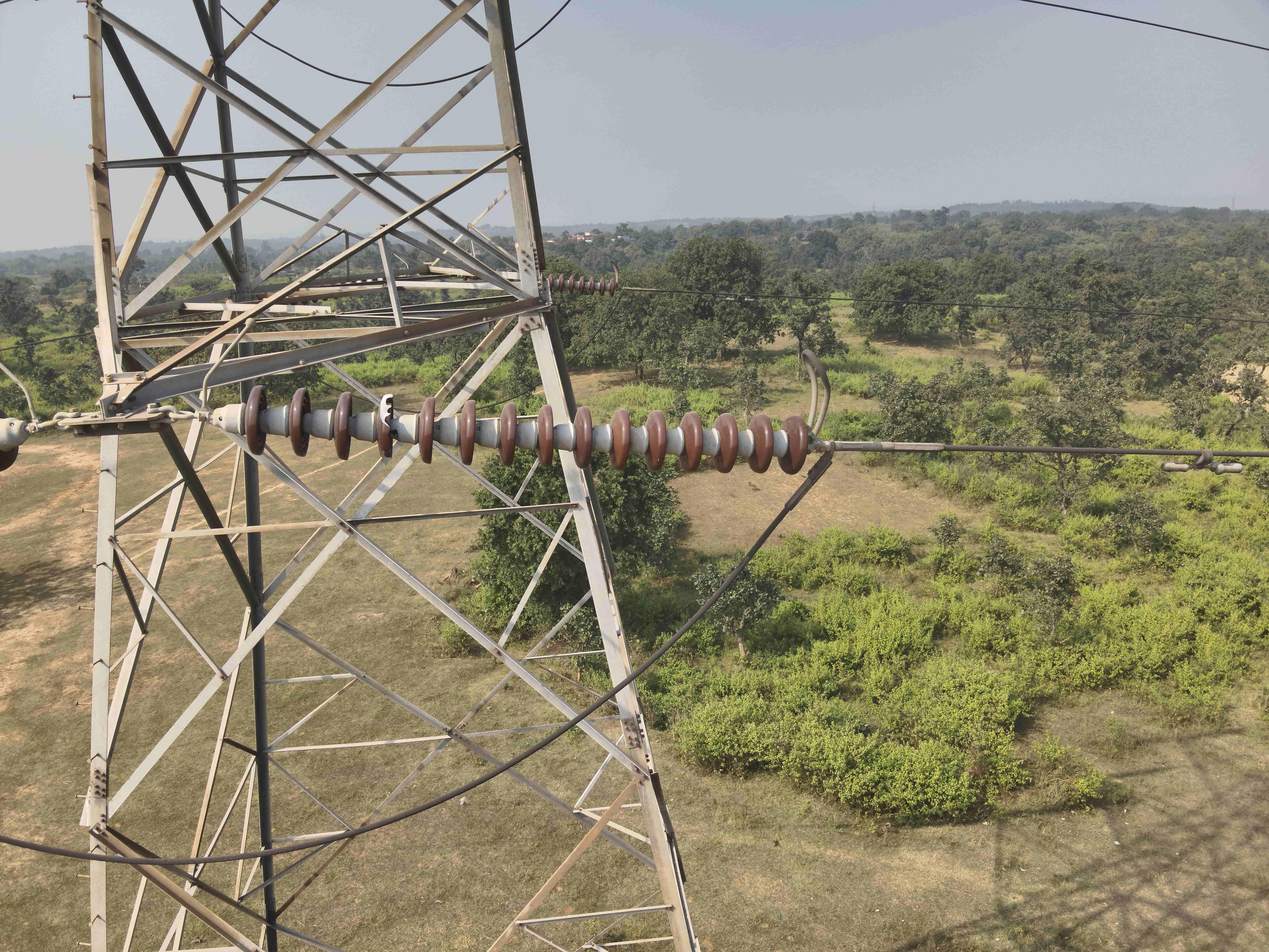broken_insulator: (376, 393, 396, 461)
